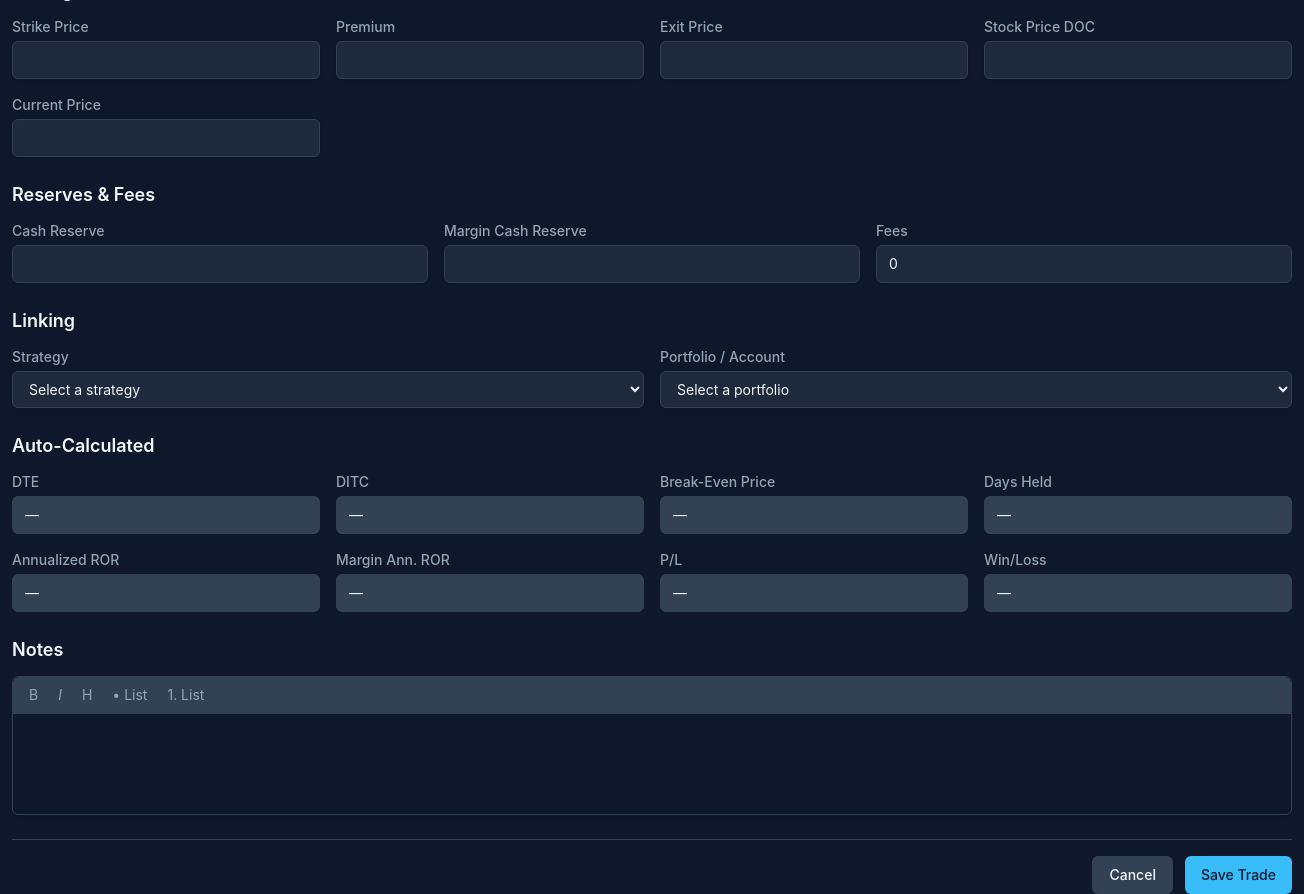
Test: TradeEntryForm › shows validation errors for required fields on empty submit
(page scrolled)
Step 1. Click the button "Save Trade" → (1238, 875), box [1185,856,1292,893]
(page scrolled)
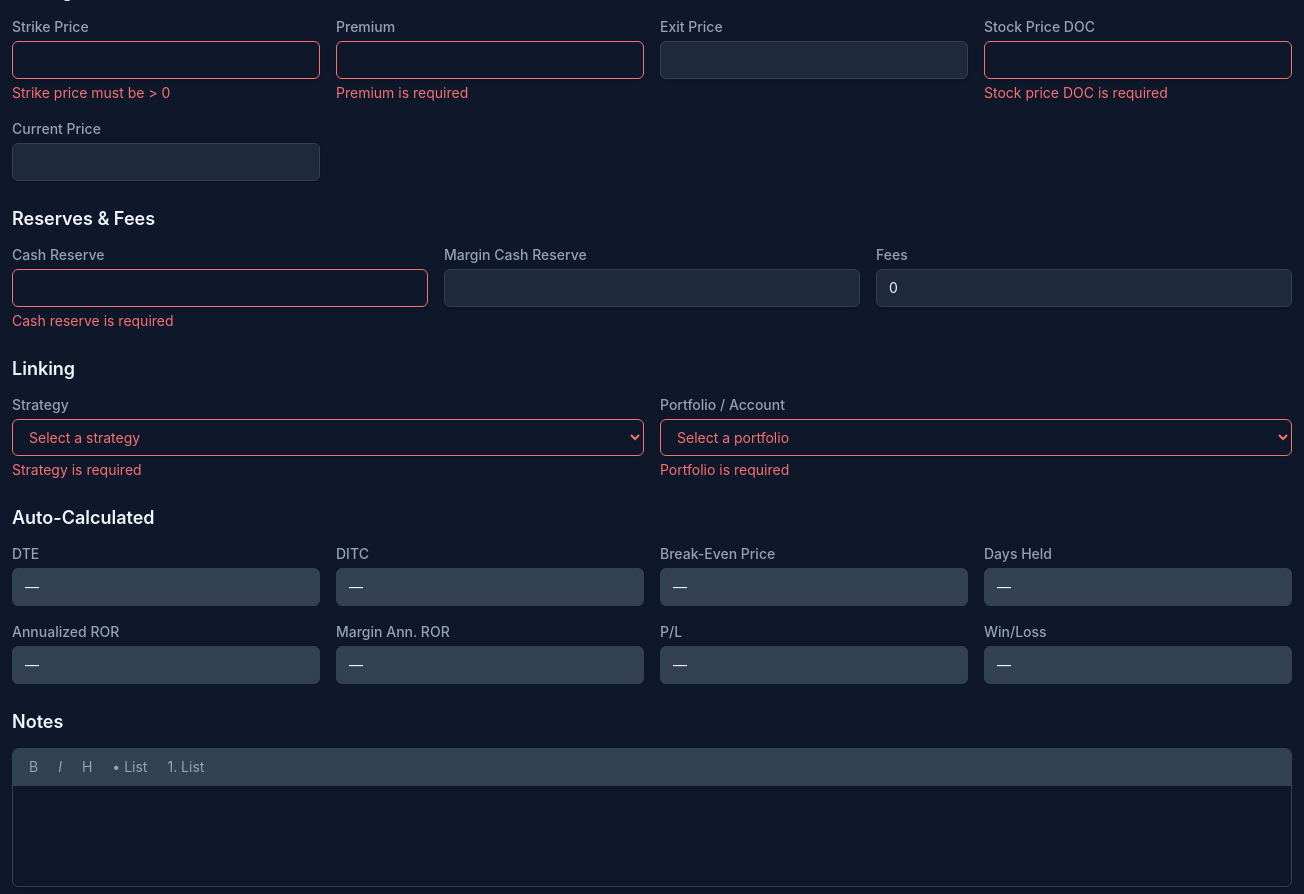
Check: the text "Strategy is required" is shown, box [12,461,142,478]
Check: the text "Portfolio is required" is shown, box [660,461,789,478]
